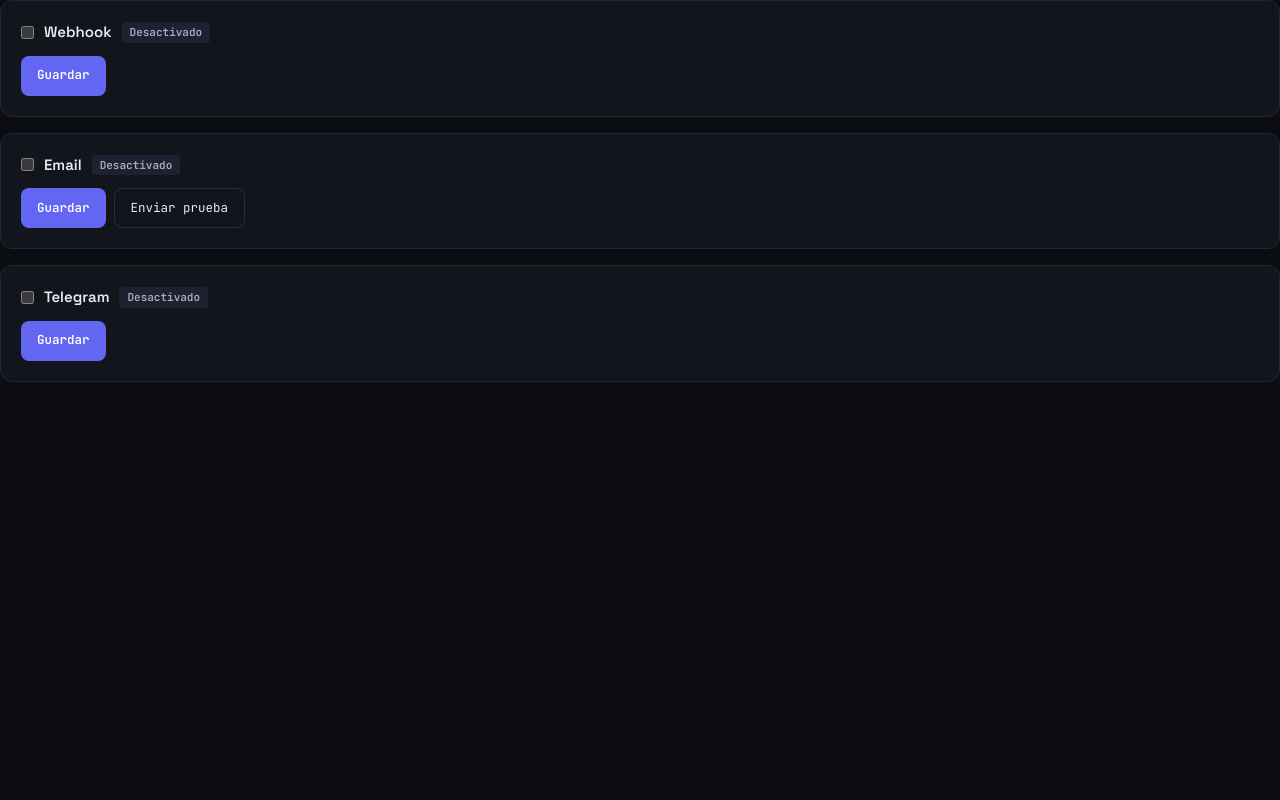
it: ConfiguracionNotificaciones › toggle email habilita y muestra los campos SMTP
This screenshot has width=1280, height=800.
Expected: the field labelled "smtp host" is not shown
What coordinates should you click on to do the following:
click the checkbox named "habilitar email"
I would click on:
 (28, 165)
Its box is [21,158,34,171].
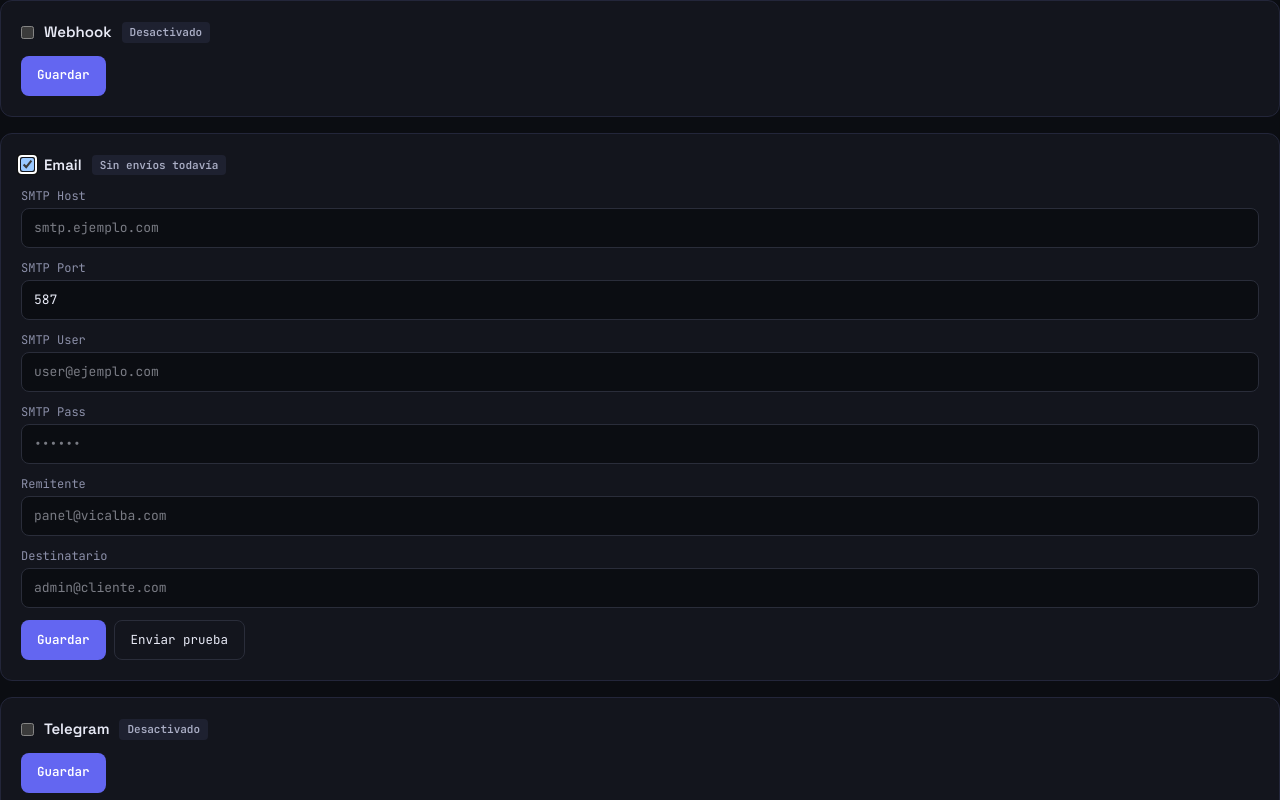
Now the field labelled "SMTP Host" is shown, box [21,208,1259,248]
